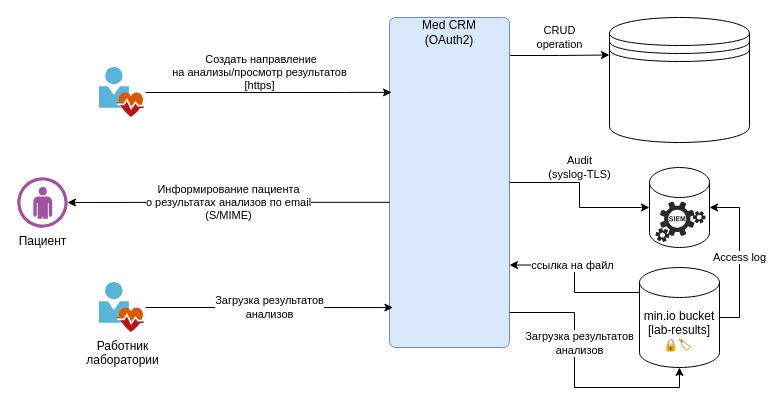
Some shapes in this 783 by 413 pixel diagram are drawn without their labels. The shapes that lost their labels are listed below. From the top down, each one's box as (x1, y1, x2, y2) in pixels, then its label:
(99, 67, 145, 117): Медицинский специалист
(608, 16, 750, 142): PostgreSQL [patiets] 🔒🏷
